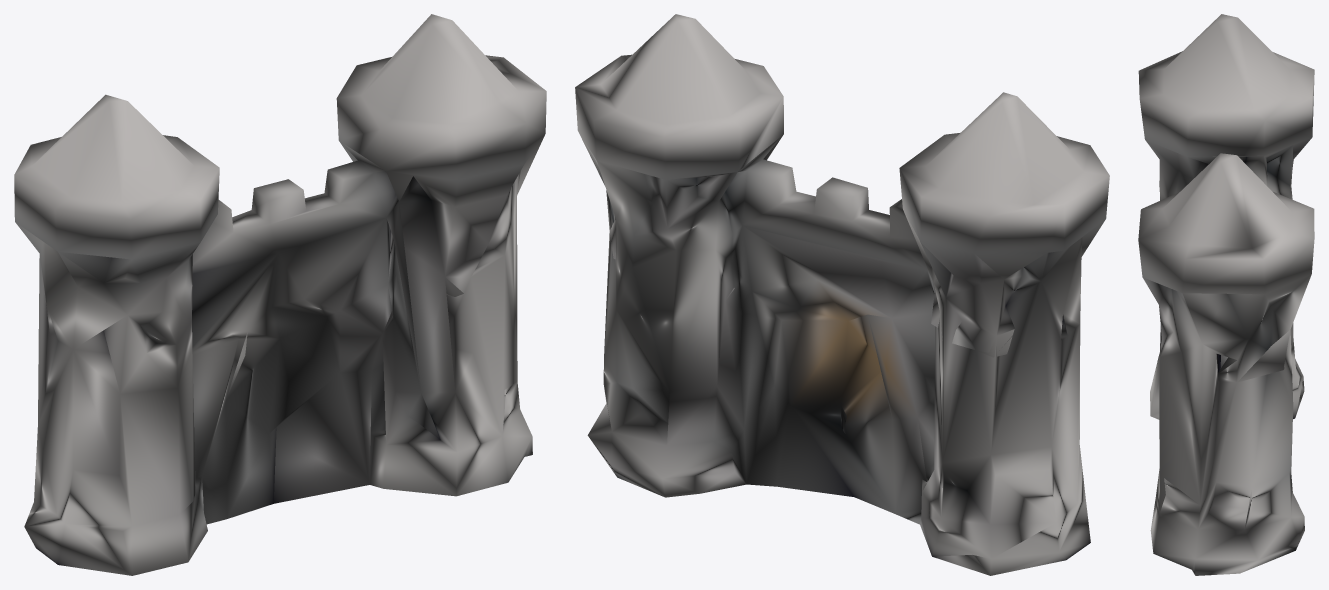
The model's file is gen3d-castle-gate-lod1.glb.
3 renders of one model, left to right at view 1: azimuth 30°, elevation 25°; view 2: azimuth 150°, elevation 25°; view 3: azimuth 270°, elevation 25°, orthographic. The views are drawn at different scales.
Parts seen in each view (by area): view 1: part_0; view 2: part_0; view 3: part_0.
Boxes of the visible parts, <box> form: part_0: <box>14,14,546,575</box>; part_0: <box>575,14,1109,575</box>; part_0: <box>1138,14,1314,575</box>.
Bounding box in the file's own units: 1.16 × 0.9966 × 0.4108.
